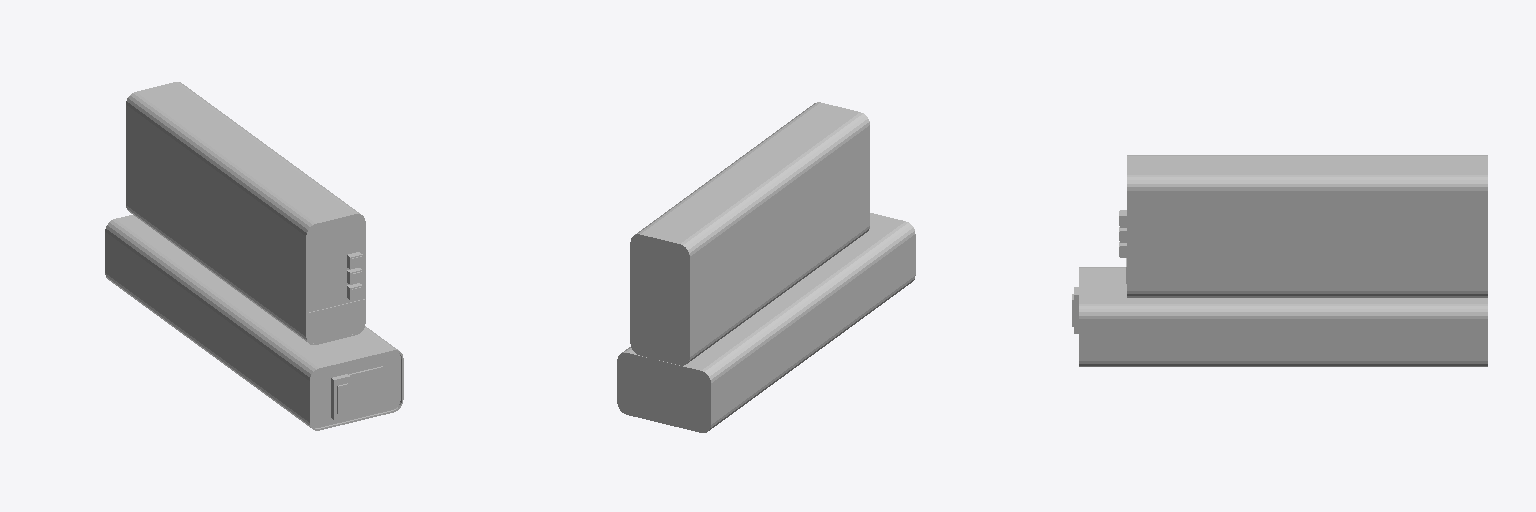
Rendered from PlayBuilding_1.obj.
The picture shows the model from 3 angles: view 1: azimuth 30°, elevation 25°; view 2: azimuth 150°, elevation 25°; view 3: azimuth 270°, elevation 25°; orthographic projection.
Parts seen in each view (by area): view 1: 立方体.006; view 2: 立方体.006; view 3: 立方体.006.
Part boxes in pixels (bbox=[...]): 立方体.006: bbox=[105, 82, 403, 430]; 立方体.006: bbox=[617, 102, 915, 432]; 立方体.006: bbox=[1072, 155, 1487, 366].
Size of the model in its own units: 24.85 by 46.5 by 95.45.